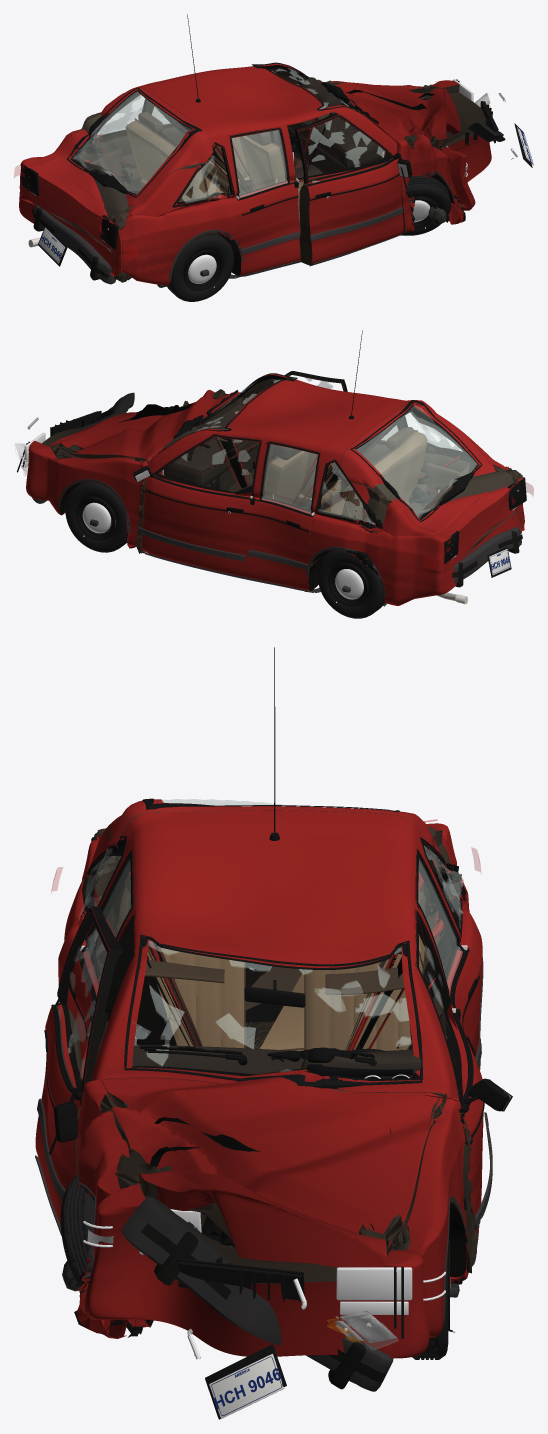
The model's file is hatchback85_front_corner_R_d2.glb.
3 renders of one model, top to bottom at view 1: azimuth 30°, elevation 25°; view 2: azimuth 150°, elevation 25°; view 3: azimuth 270°, elevation 25°, orthographic. The views are drawn at different scales.
Visible parts, largest first — view 1: Body, Interior, Hatch, Door_FR, Glass_Hatch, Hood, Door_RR, Wheel_RR_mesh, Glass_RR, Ends, Glass, Trim_FR (+7 smaller); view 2: Body, Interior, Door_FL, Hatch, Glass_Hatch, Hood, Door_RL, Wheel_FL_mesh, Wheel_RL_mesh, Glass_RL, Glass, Ends (+9 smaller); view 3: Body, Hood, Interior, Ends, Glass, Bumper_F, Door_FR, Trim, Door_FL, Trim_FR, Trim_FL, Door_RL (+11 smaller).
Part boxes in pixels (x1=…): Body: x1=19, y1=63, x2=491, y2=285; Interior: x1=90, y1=70, x2=382, y2=222; Hatch: x1=28, y1=86, x2=213, y2=251; Door_FR: x1=294, y1=113, x2=403, y2=265; Glass_Hatch: x1=67, y1=87, x2=202, y2=197; Hood: x1=319, y1=81, x2=460, y2=147; Door_RR: x1=229, y1=127, x2=300, y2=276; Wheel_RR_mesh: x1=166, y1=232, x2=233, y2=301; Glass_RR: x1=230, y1=130, x2=289, y2=197; Ends: x1=20, y1=79, x2=533, y2=266; Glass: x1=92, y1=62, x2=386, y2=206; Trim_FR: x1=298, y1=115, x2=412, y2=266; Body: x1=26, y1=374, x2=524, y2=605; Interior: x1=163, y1=381, x2=460, y2=521; Door_FL: x1=138, y1=434, x2=262, y2=577; Hatch: x1=340, y1=400, x2=517, y2=570; Glass_Hatch: x1=350, y1=400, x2=482, y2=521; Hood: x1=48, y1=390, x2=238, y2=460; Door_RL: x1=246, y1=441, x2=320, y2=590; Wheel_FL_mesh: x1=65, y1=481, x2=127, y2=552; Wheel_RL_mesh: x1=317, y1=549, x2=384, y2=618; Glass_RL: x1=259, y1=442, x2=320, y2=514; Glass: x1=158, y1=373, x2=459, y2=528; Ends: x1=15, y1=410, x2=526, y2=577; Body: x1=58, y1=810, x2=482, y2=1358; Hood: x1=101, y1=1077, x2=444, y2=1267; Interior: x1=115, y1=885, x2=427, y2=1078; Ends: x1=83, y1=837, x2=445, y2=1419; Glass: x1=79, y1=839, x2=466, y2=1088; Bumper_F: x1=121, y1=1197, x2=393, y2=1391; Door_FR: x1=35, y1=906, x2=122, y2=1225; Trim: x1=59, y1=647, x2=483, y2=1320; Door_FL: x1=415, y1=909, x2=483, y2=1270; Trim_FR: x1=35, y1=907, x2=109, y2=1235; Trim_FL: x1=416, y1=910, x2=512, y2=1273; Door_RL: x1=415, y1=848, x2=479, y2=1067.
Size of the model in its own units: 4.37 by 2.15 by 1.89.
33 materials, 5 textured.
